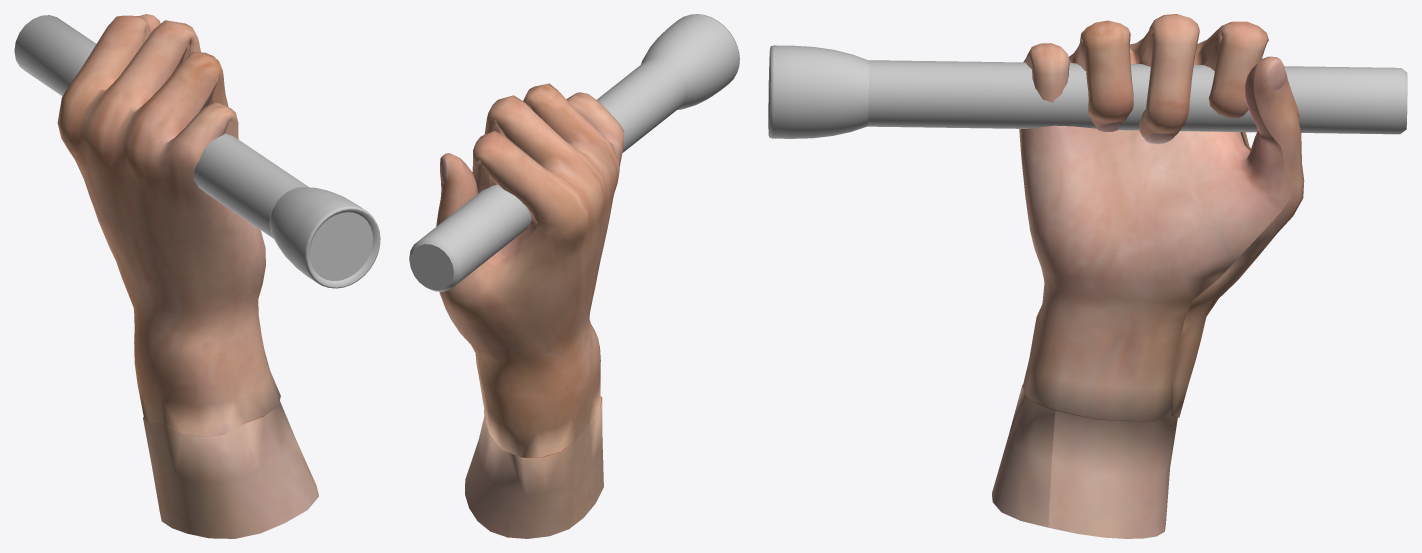
File: FlashlightHand.fbx
The picture shows the model from 3 angles, left to right: view 1: azimuth 30°, elevation 25°; view 2: azimuth 150°, elevation 25°; view 3: azimuth 270°, elevation 25°; orthographic projection. The views are drawn at different scales.
Visible parts, largest first — view 1: Hand, torch; view 2: Hand, torch; view 3: Hand, torch.
Part boxes in pixels (bbox=[...]): Hand: bbox=[57, 14, 318, 538]; torch: bbox=[14, 15, 380, 288]; Hand: bbox=[436, 83, 624, 538]; torch: bbox=[409, 14, 739, 291]; Hand: bbox=[992, 14, 1304, 538]; torch: bbox=[768, 45, 1407, 138].
Bounding box in the file's own units: 7.94 × 19.83 × 22.76.
